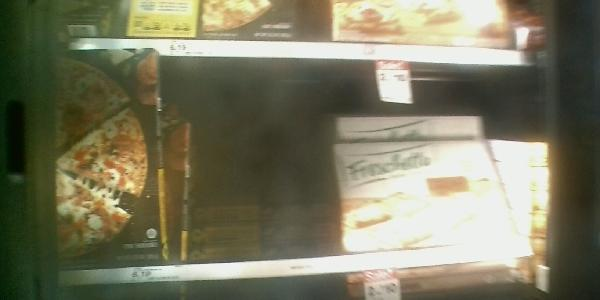pizza: (60, 50, 163, 262), (333, 140, 521, 250)
pizza1: (336, 115, 485, 141), (190, 226, 322, 246), (188, 246, 322, 264), (195, 206, 323, 224)
